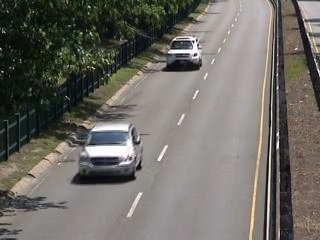car: (77, 119, 148, 186), (163, 34, 207, 74)
